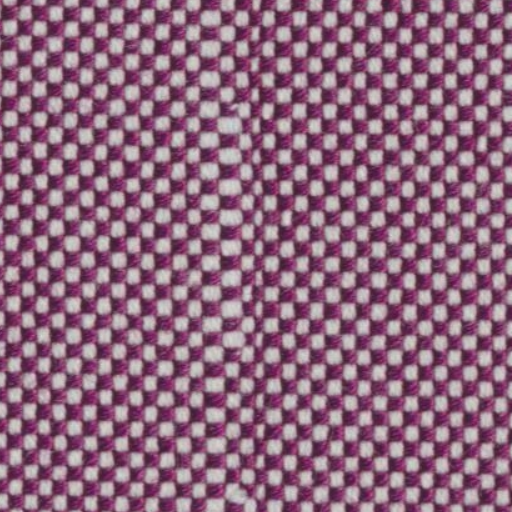TuoSha: (188, 10, 317, 496)
